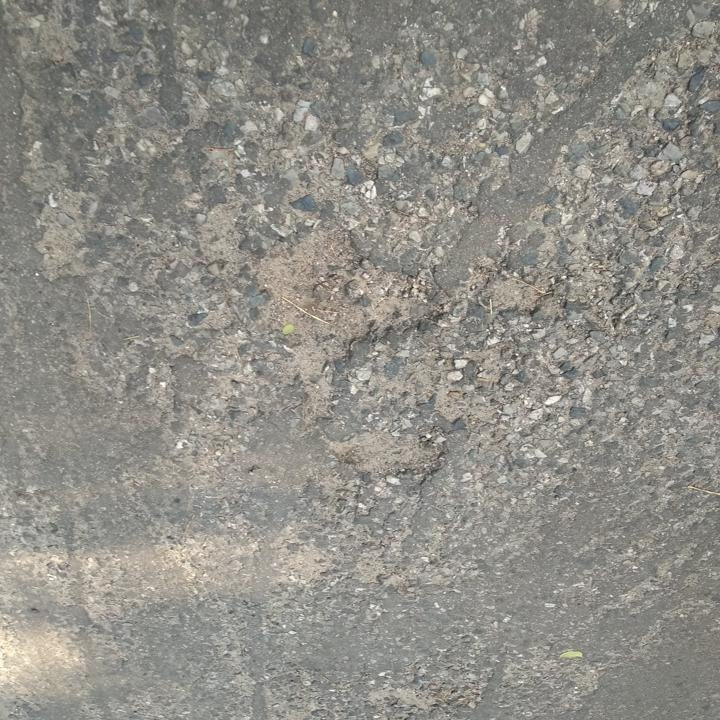pothole: (254, 227, 450, 387), (327, 422, 449, 483), (484, 273, 557, 318)
